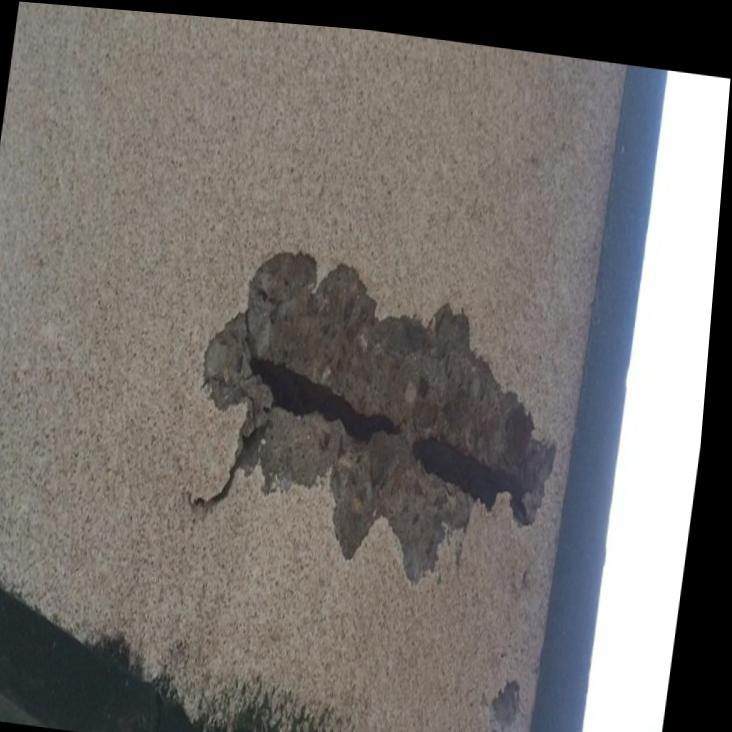damage: (203, 247, 563, 574)
